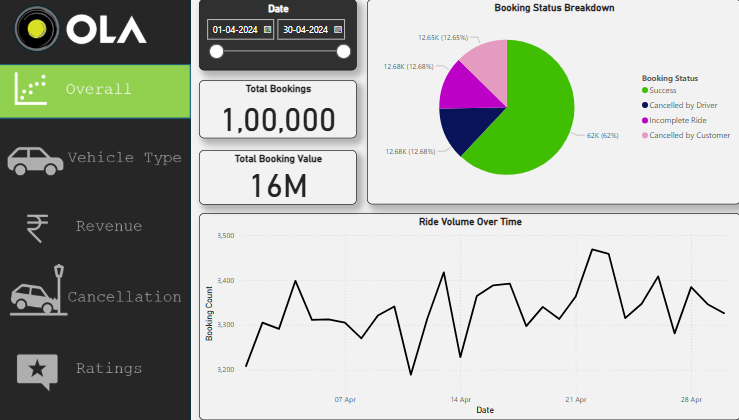

Layout of this report page (visuals, bound fields, positions):
{"tool":"powerbi","page":{"name":"Overall","canvas":[1280,720],"ordinal":0},"visuals":[{"type":"actionButton","box":[0,330,325,91.7],"z":0},{"type":"actionButton","box":[0,570,325,93.3],"z":1000},{"type":"actionButton","box":[0,445,325,103.3],"z":2000},{"type":"actionButton","box":[0,218.3,325,93.3],"z":3000},{"type":"lineChart","title":" Ride Volume Over Time","fields":{"Y":["CountNonNull(Bookings.Booking ID)"],"Category":["Bookings.Date"]},"box":[338.3,360,910,348.3],"z":4000},{"type":"pieChart","title":"Booking Status Breakdown","fields":{"Category":["Bookings.Booking Status"],"Y":["CountNonNull(Bookings.Booking Status)"]},"box":[620,0,628.3,345],"z":5000},{"type":"slicer","title":"Date","fields":{"Values":["Bookings.Date"]},"box":[338.3,0,265,120],"z":6000},{"type":"card","title":"Total Bookings","fields":{"Values":["CountNonNull(Bookings.Booking ID)"]},"box":[338.3,136.7,265,98.3],"z":7000},{"type":"card","title":"Total Booking Value","fields":{"Values":["Sum(Bookings.Booking Value)"]},"box":[338.3,253.3,265,91.7],"z":8000}]}

Visuals, with their boxes in screenshot pixels (x1, y1, x2, y2), scaled from the page's 1280x720 canvas onto the 739x420 screenshot:
actionButton: 0/192/188/246
actionButton: 0/332/188/387
actionButton: 0/260/188/320
actionButton: 0/127/188/182
" Ride Volume Over Time" lineChart: 195/210/721/413
"Booking Status Breakdown" pieChart: 358/0/721/201
"Date" slicer: 195/0/348/70
"Total Bookings" card: 195/80/348/137
"Total Booking Value" card: 195/148/348/201
